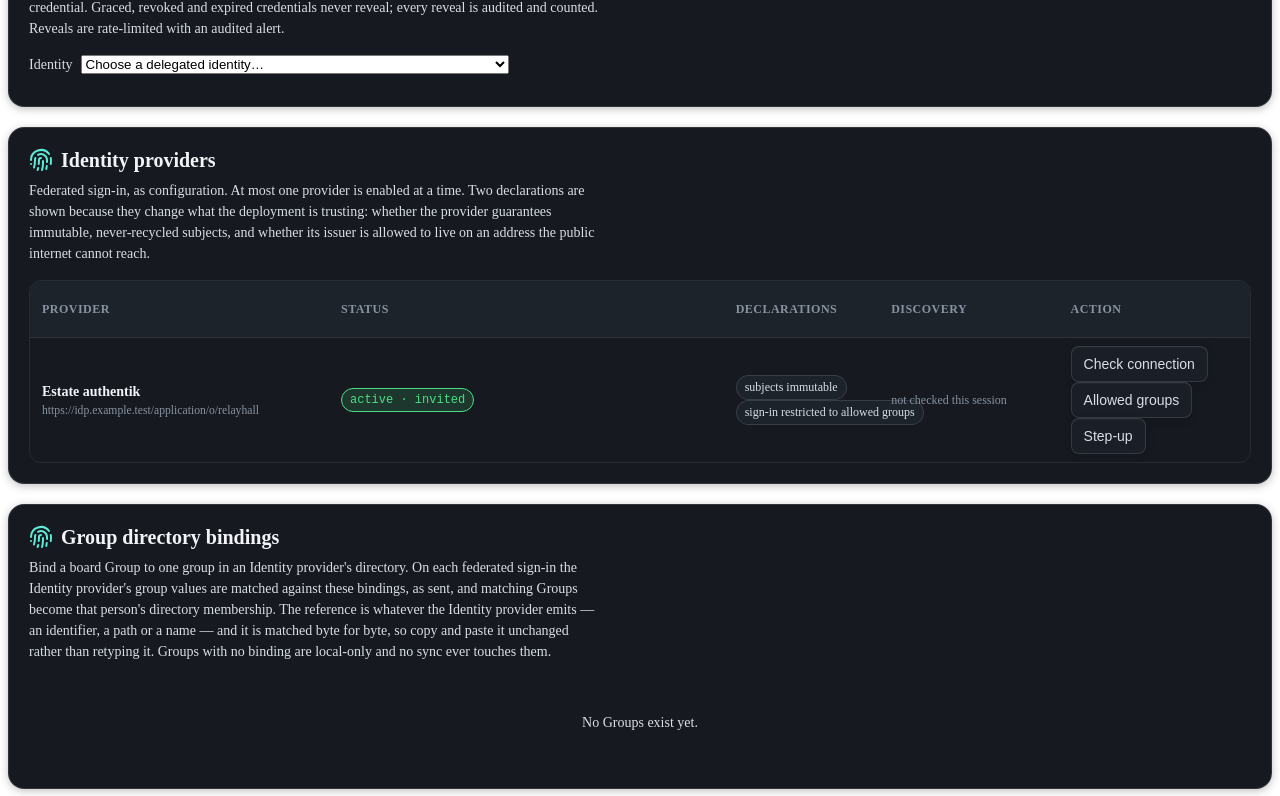
Test: SSO-R4 · the login-gate editor never renders UNKNOWN as an empty list › while the allowed-group read is PENDING it shows loading, not a lockout
(page scrolled)
Click the button "Allowed groups" at (1131, 400), box [1071, 382, 1192, 418]
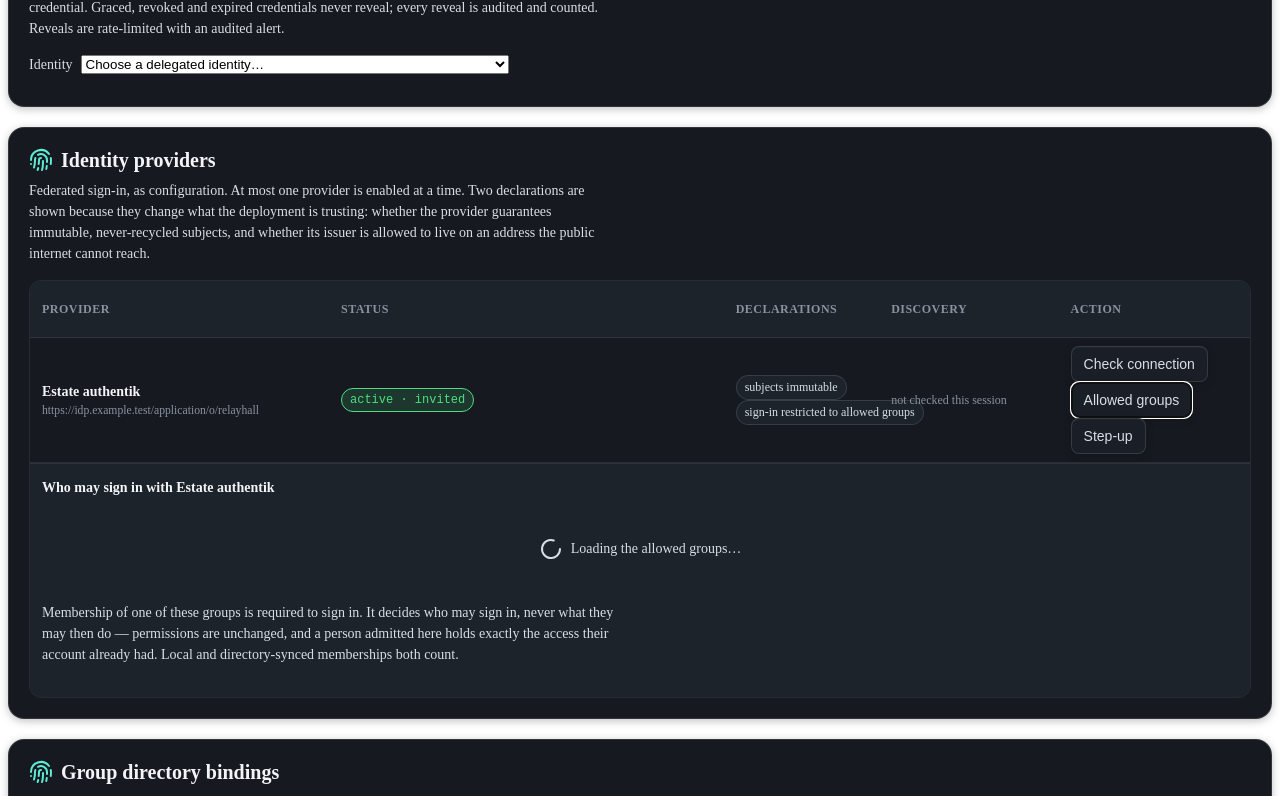
Now the text "Loading the allowed groups…" is shown, box [539, 537, 741, 561]
